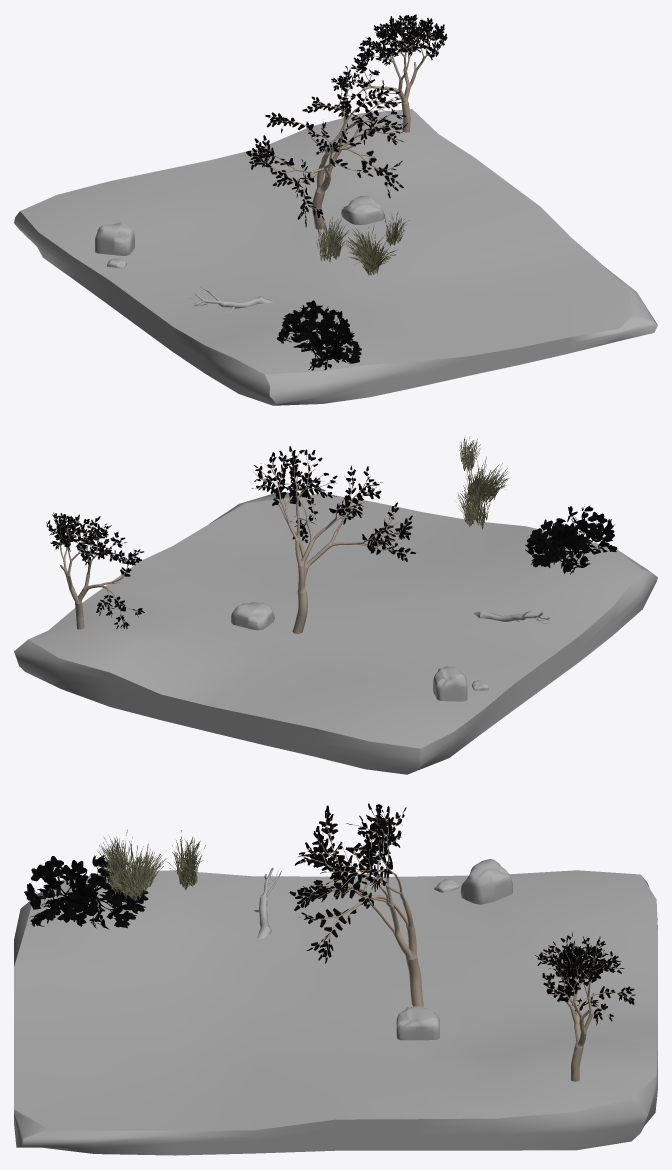
File: NewEnviro.fbx
The picture shows the model from 3 angles, top to bottom: view 1: azimuth 30°, elevation 25°; view 2: azimuth 150°, elevation 25°; view 3: azimuth 270°, elevation 25°; orthographic projection. The views are drawn at different scales.
Parts seen in each view (by area): view 1: pasted__pCube6, treeLeafy1Main, treeLeafy2Main, bushes2Main, pCube2, grassClump24Main, pCube1, grassClump21Main; view 2: pasted__pCube6, treeLeafy1Main, treeLeafy2Main, bushes2Main, pCube2, grassClump24Main, pCube1, grassClump21Main; view 3: pasted__pCube6, treeLeafy1Main, bushes2Main, treeLeafy2Main, grassClump24Main, pCube2, pCube1, grassClump21Main, grassClump18Main, birchDead1Main.
Boxes of the visible parts, x1,y1,x2,y2 form: pasted__pCube6: (14,109,657,405); treeLeafy1Main: (246,66,407,229); treeLeafy2Main: (331,14,447,132); bushes2Main: (276,300,361,370); pCube2: (95,222,134,255); grassClump24Main: (344,225,397,275); pCube1: (341,195,384,224); grassClump21Main: (316,216,348,261); pasted__pCube6: (14,492,657,774); treeLeafy1Main: (251,446,415,633); treeLeafy2Main: (46,512,144,629); bushes2Main: (525,504,617,574); pCube2: (433,666,467,701); grassClump24Main: (464,456,509,505); pCube1: (231,602,274,630); grassClump21Main: (456,479,490,529); pasted__pCube6: (14,870,657,1155); treeLeafy1Main: (289,803,423,1006); bushes2Main: (24,855,148,929); treeLeafy2Main: (535,932,635,1081); grassClump24Main: (96,838,166,900); pCube2: (460,859,512,904); pCube1: (396,1006,439,1040); grassClump21Main: (167,830,205,890); grassClump18Main: (97,829,132,874); birchDead1Main: (254,868,281,938).
Size of the model in its own units: 12.87 by 5.98 by 14.22.
